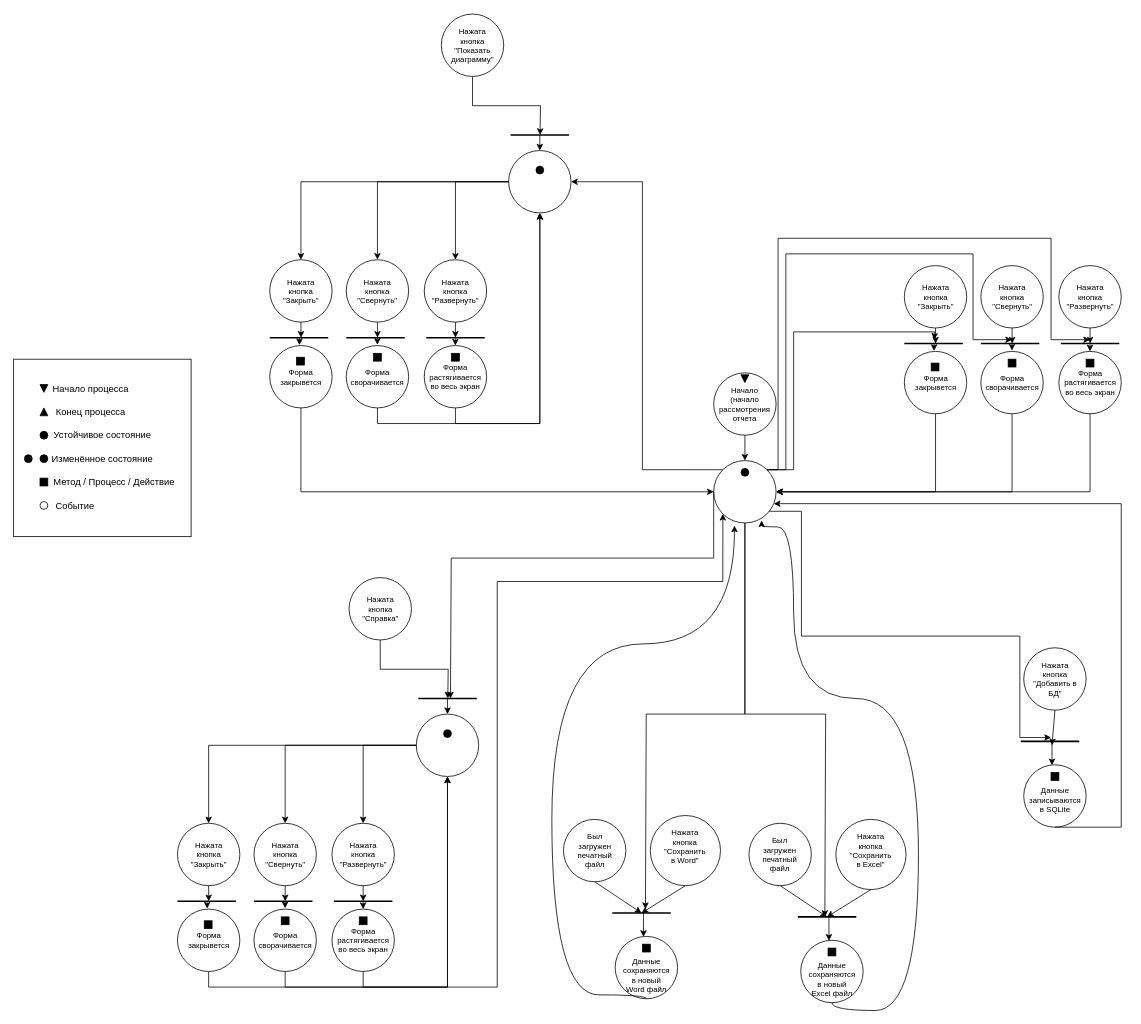
Some shapes in this 1141 by 1024 pixel diagram are drawn without their labels. Each missing label, with the box of its shape:
MainForm: (713, 460, 776, 523)
Окно диаграммы: (508, 150, 571, 213)
Справочное окно: (416, 713, 479, 776)
